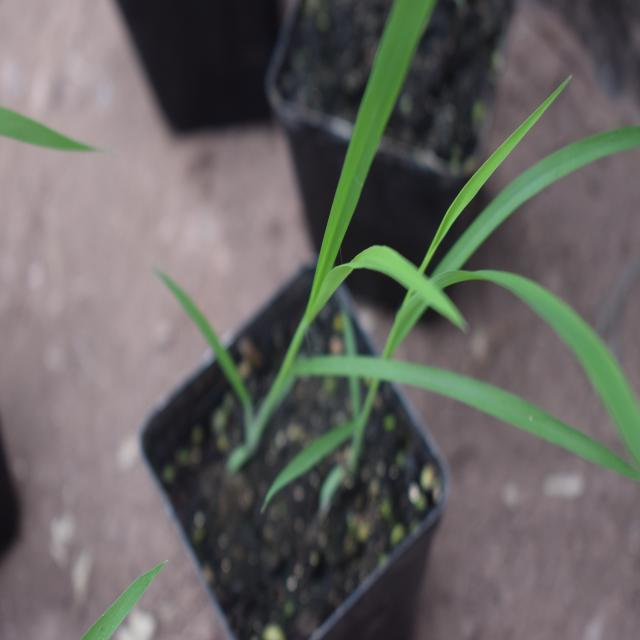crabgrass: (223, 32, 640, 480)
